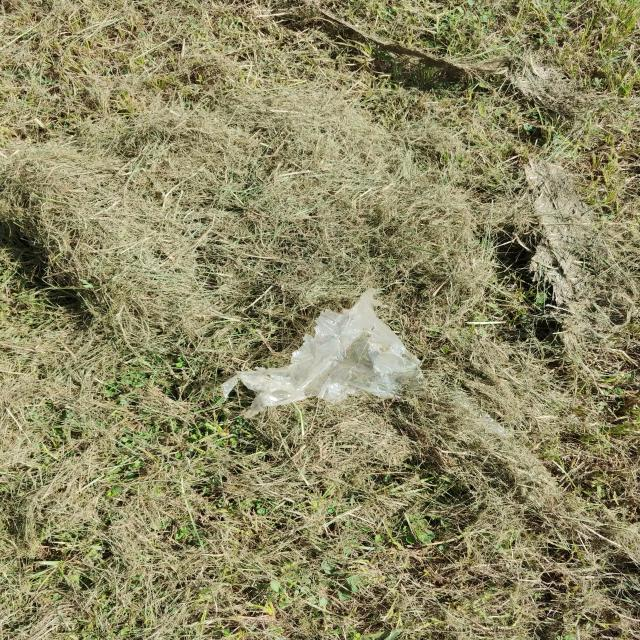litter: (237, 288, 413, 417)
